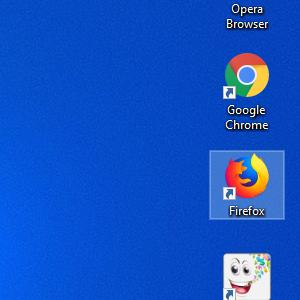firefox: (223, 153, 270, 200)
